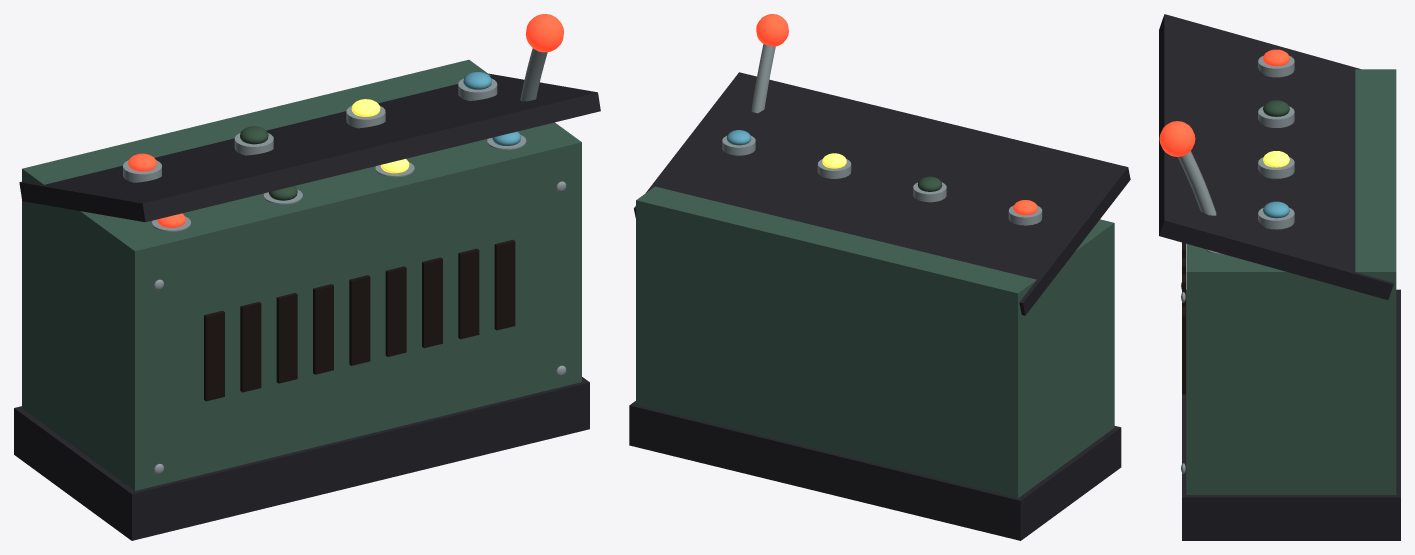
The model's file is mia-control_panel.glb.
The picture shows the model from 3 angles, left to right: view 1: azimuth 30°, elevation 25°; view 2: azimuth 150°, elevation 25°; view 3: azimuth 270°, elevation 25°; orthographic projection. The views are drawn at different scales.
Parts seen in each view (by area): view 1: Body_sage, Body_iron, Body_black, Body_steel, Body_red-bulb, Body_pine-olive, Body_amber, Body_glass; view 2: Body_sage, Body_iron, Body_steel, Body_red-bulb; view 3: Body_sage, Body_iron, Body_steel, Body_red-bulb, Body_black, Body_glass, Body_amber, Body_pine-olive.
Boxes of the visible parts, left/top/right/bottom form: Body_sage: left=22, top=59, right=581, bottom=490; Body_iron: left=14, top=73, right=600, bottom=540; Body_black: left=204, top=239, right=515, bottom=401; Body_steel: left=123, top=48, right=566, bottom=474; Body_red-bulb: left=128, top=14, right=563, bottom=227; Body_pine-olive: left=240, top=126, right=297, bottom=200; Body_amber: left=351, top=99, right=409, bottom=173; Body_glass: left=463, top=72, right=520, bottom=145; Body_sage: left=636, top=186, right=1114, bottom=498; Body_iron: left=629, top=72, right=1130, bottom=540; Body_steel: left=722, top=44, right=1042, bottom=225; Body_red-bulb: left=756, top=14, right=1037, bottom=215; Body_sage: left=1186, top=69, right=1396, bottom=494; Body_iron: left=1159, top=14, right=1400, bottom=540; Body_steel: left=1178, top=55, right=1294, bottom=473; Body_red-bulb: left=1159, top=49, right=1289, bottom=156; Body_black: left=1182, top=242, right=1185, bottom=394; Body_glass: left=1263, top=201, right=1289, bottom=218; Body_amber: left=1263, top=151, right=1289, bottom=167; Body_pine-olive: left=1263, top=100, right=1289, bottom=116.
Bounding box in the file's own units: 1.64 × 1.46 × 0.806.
